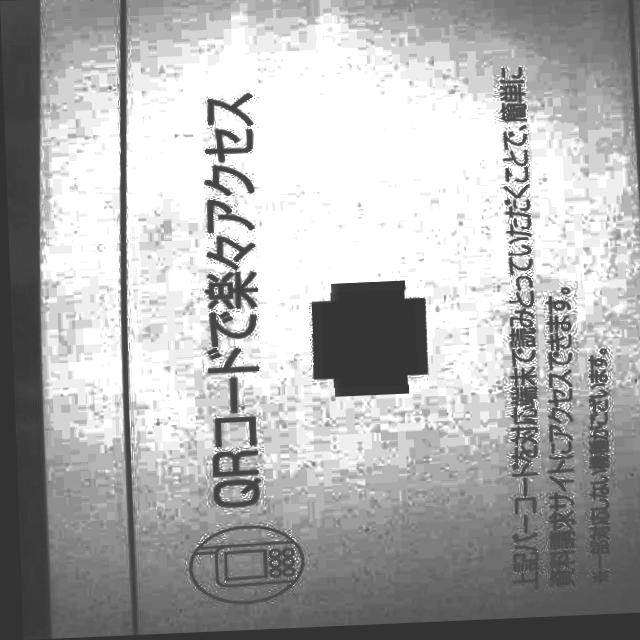qr_code: (318, 292, 415, 390)
